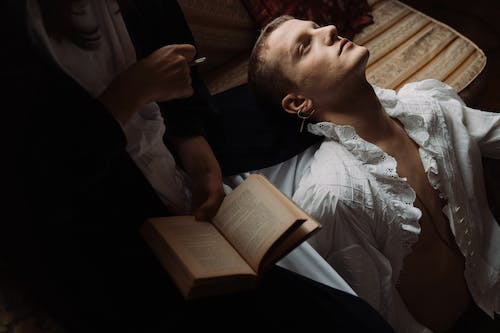cigarette: (187, 55, 207, 66)
